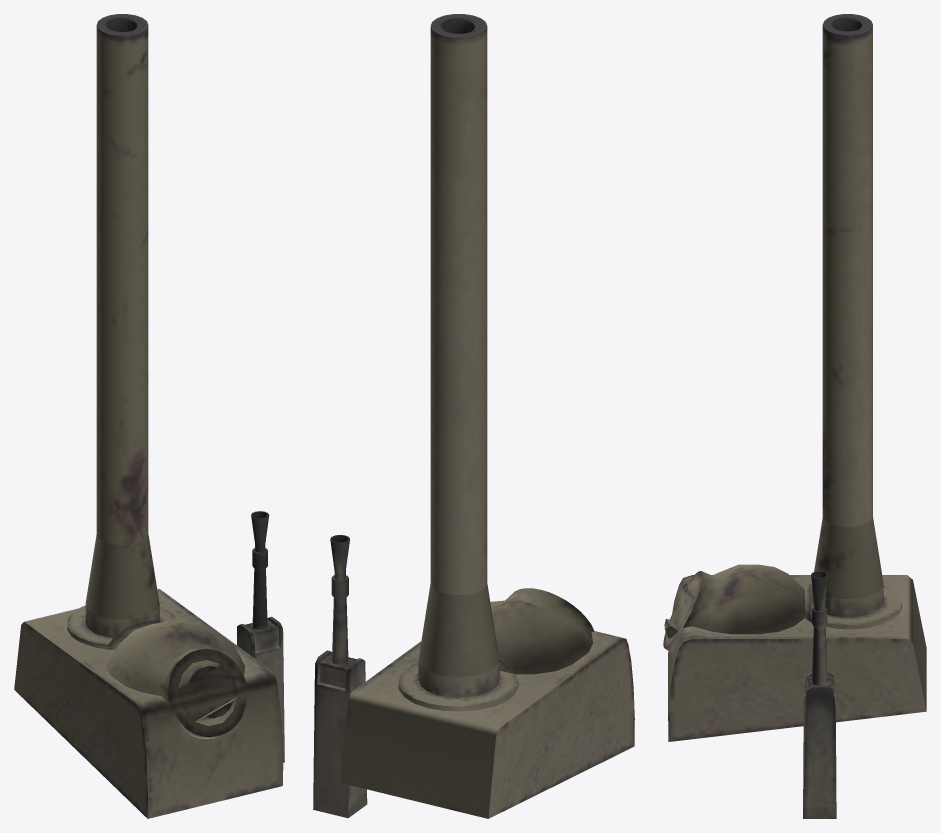
Rendered from Gun_03.glb.
3 renders of one model, left to right at view 1: azimuth 30°, elevation 25°; view 2: azimuth 150°, elevation 25°; view 3: azimuth 270°, elevation 25°, orthographic. The views are drawn at different scales.
Parts seen in each view (by area): view 1: set_0_group_0; view 2: set_0_group_0; view 3: set_0_group_0.
Boxes of the visible parts, x1,y1,x2,y2 form: set_0_group_0: [14, 14, 284, 818]; set_0_group_0: [313, 14, 634, 818]; set_0_group_0: [663, 14, 926, 818].
Size of the model in its own units: 0.4517 by 1.57 by 0.5156.
1 material, 1 textured.
